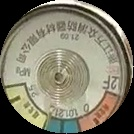green: (43, 115, 83, 134)
red: (78, 92, 121, 134)
yellow: (5, 84, 48, 129)
